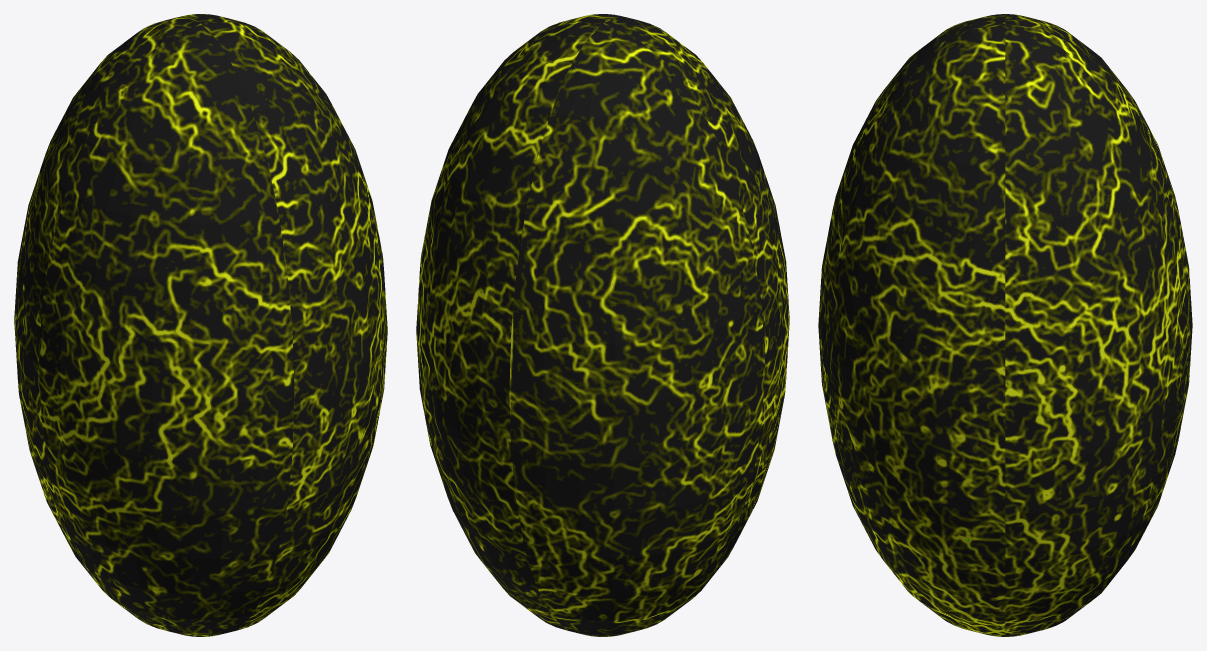
Rendered from egg.obj.
3 renders of one model, left to right at view 1: azimuth 30°, elevation 25°; view 2: azimuth 150°, elevation 25°; view 3: azimuth 270°, elevation 25°, orthographic.
Visible parts, largest first — view 1: Sphere; view 2: Sphere; view 3: Sphere.
Boxes of the visible parts, <box> form: Sphere: <box>14,14,387,636</box>; Sphere: <box>416,14,789,636</box>; Sphere: <box>818,14,1192,636</box>.
Size of the model in its own units: 2 by 3.56 by 2.
1 material, 1 textured.
